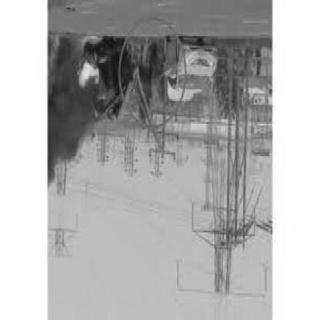Fire: (78, 53, 104, 96)
Smoke: (51, 103, 101, 177)
